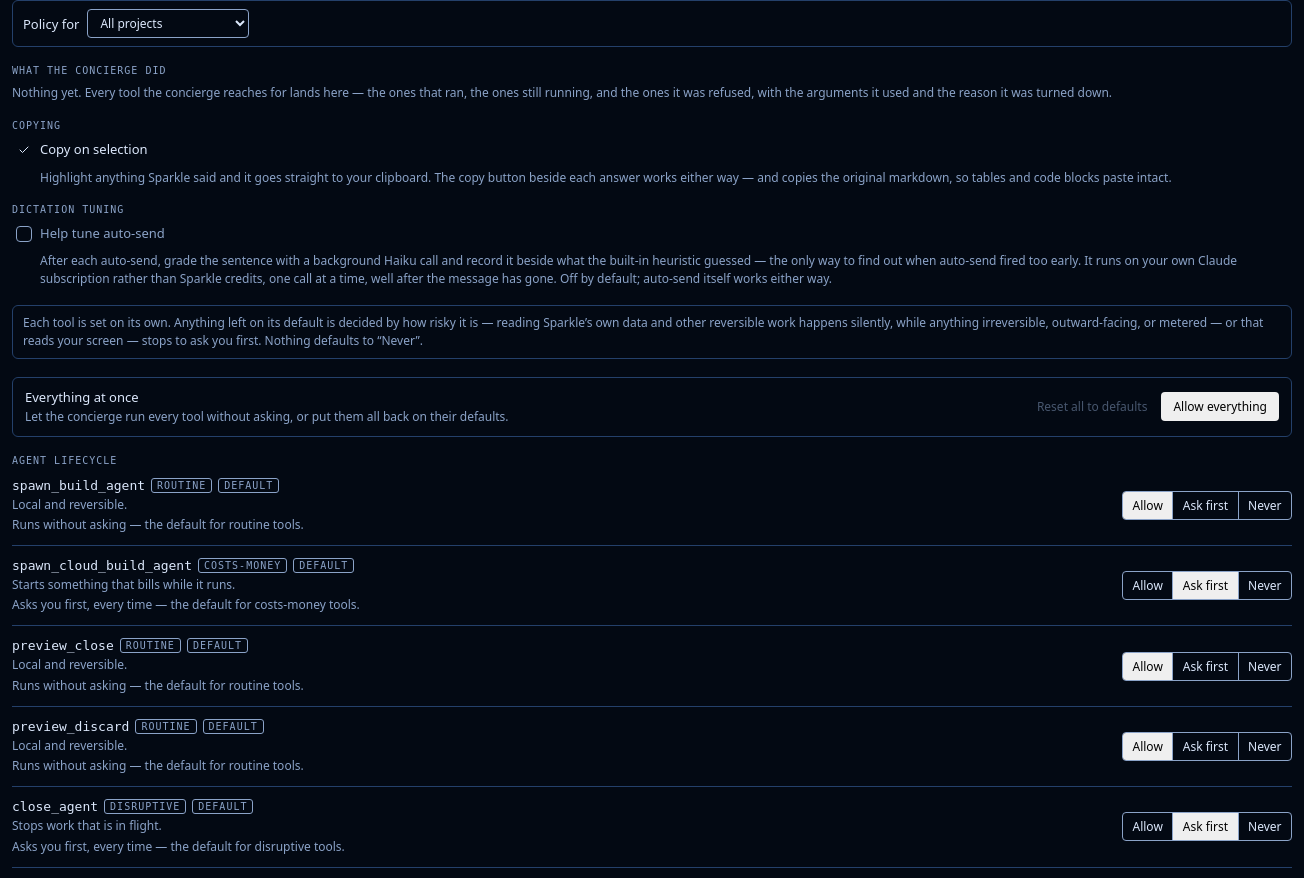
Test: a tier the lattice would ignore is never OFFERED › says the tightening rule out loud
The width and height of the screenshot is (1304, 878).
Select "Another repo…" in the dropdown with test id "concierge-policy-scope" at (168, 24), box 87,9 -> 249,38
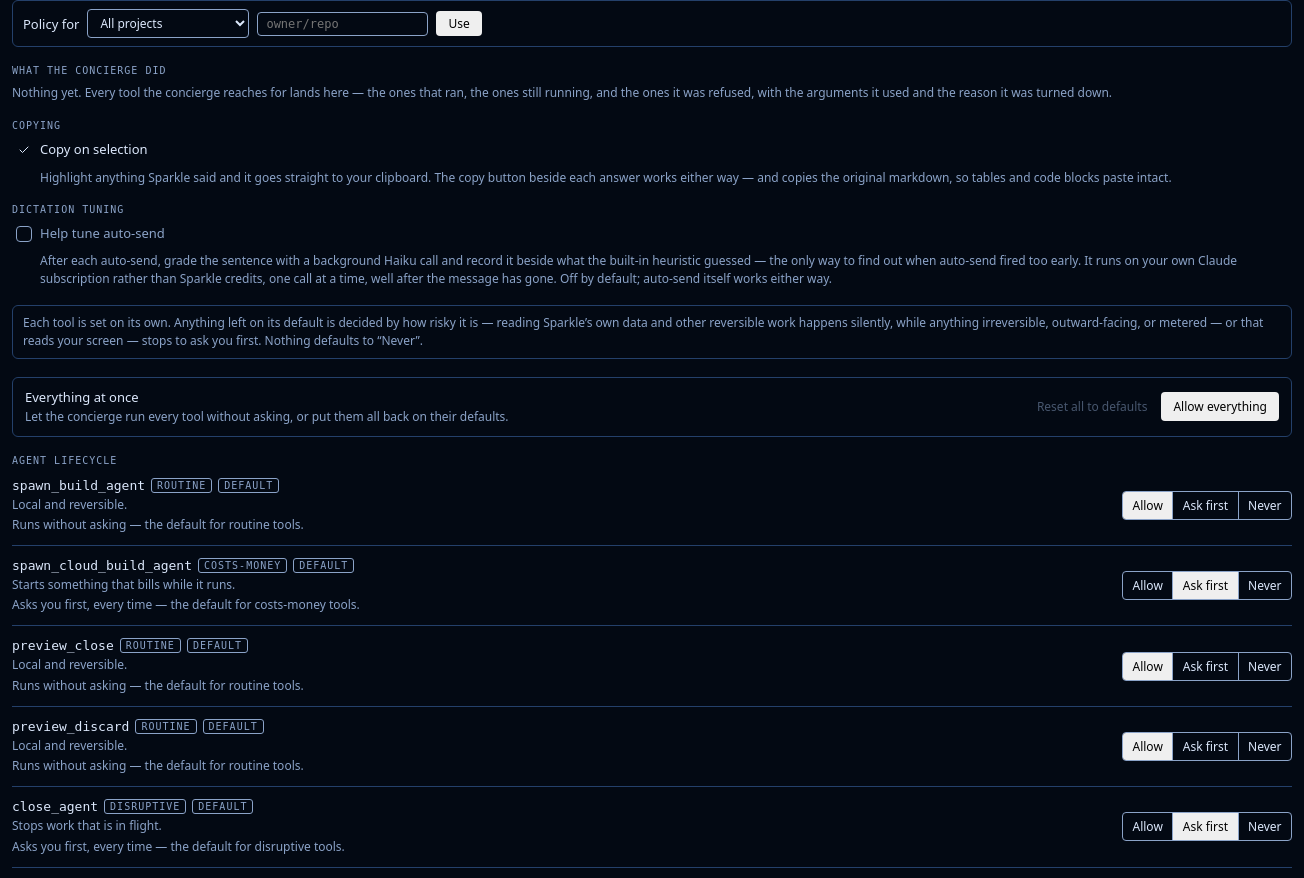
Type "drodio/sparkle" into the field with test id "concierge-policy-scope-input" at (343, 24), box 257,12 -> 428,36
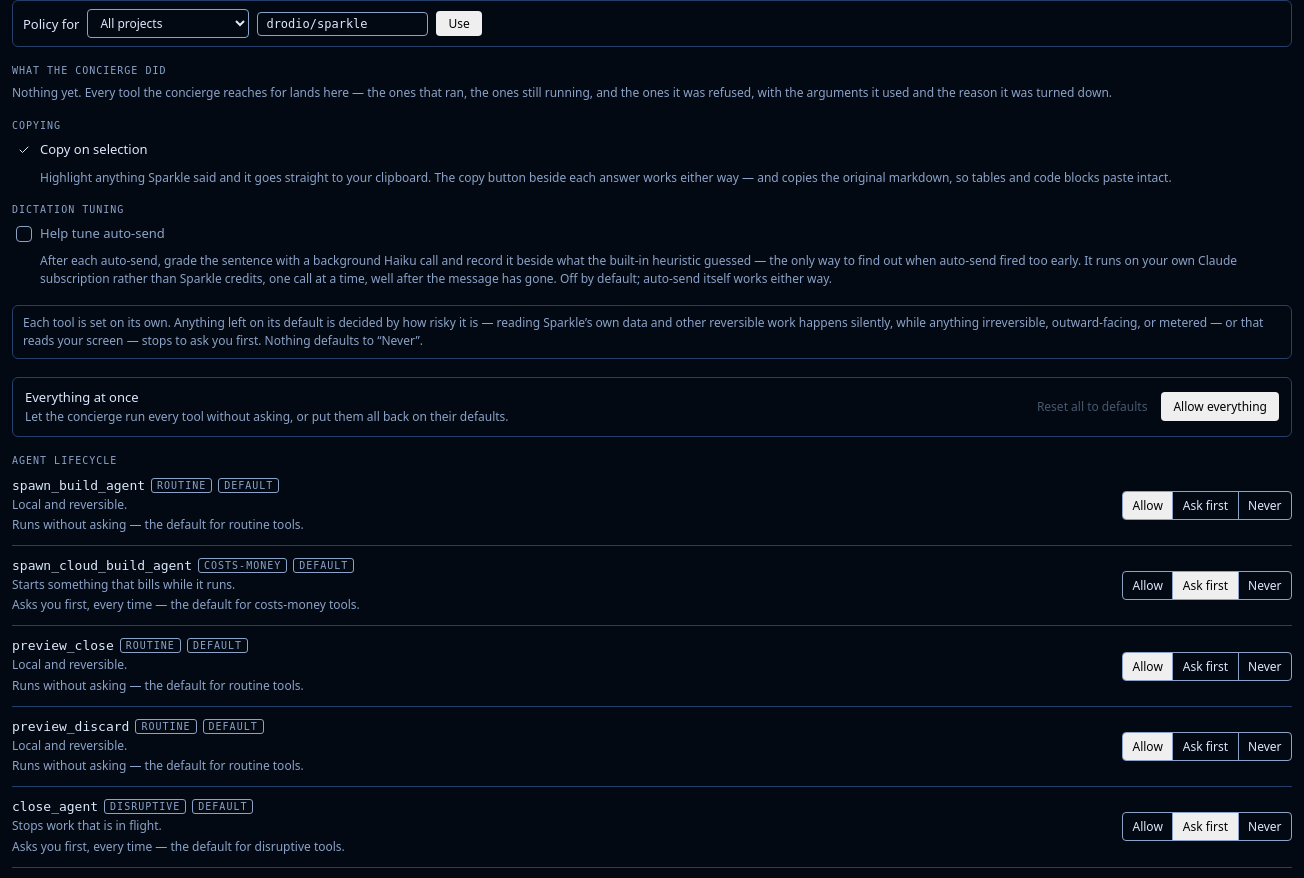
Click the button "Use" at (459, 24), box 436,11 -> 482,36
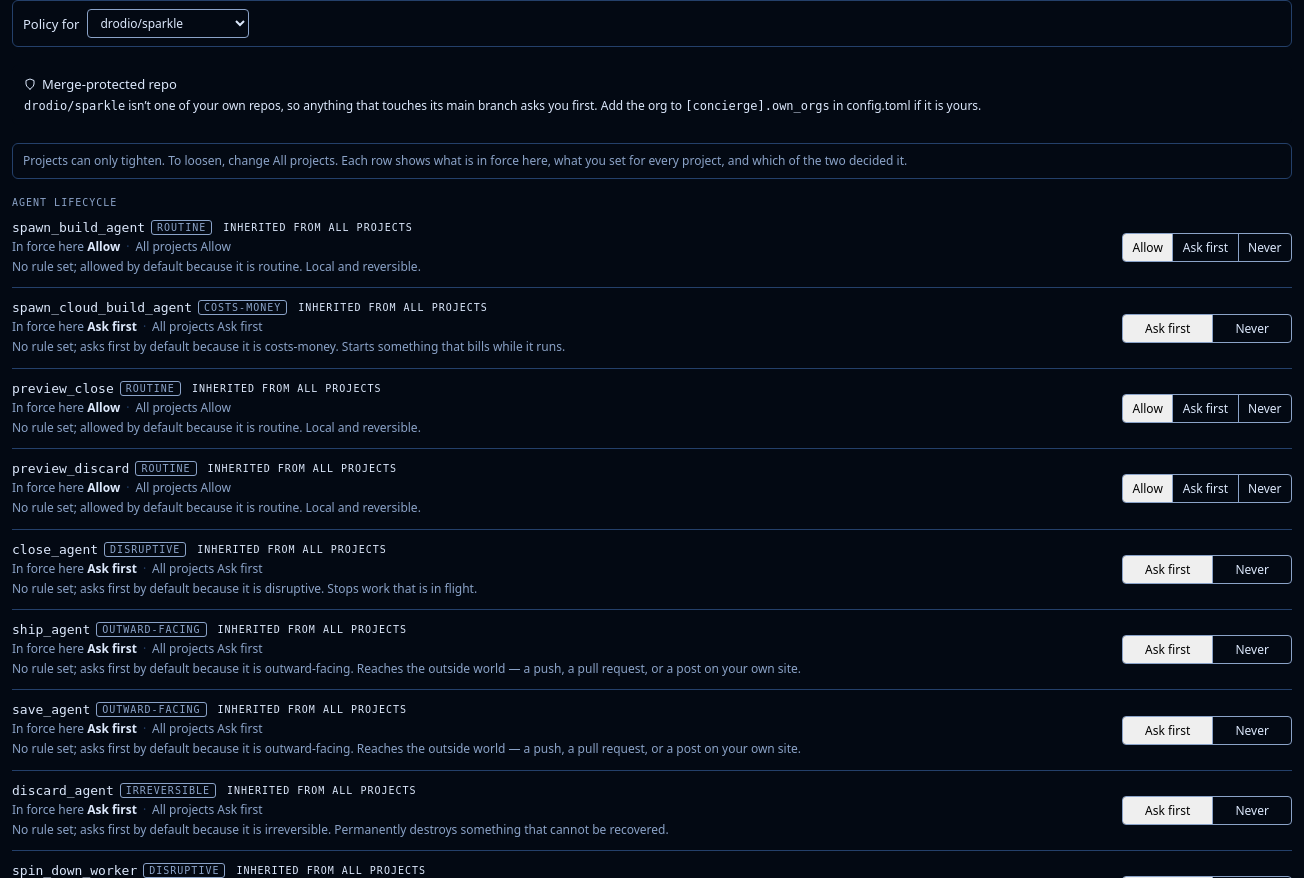
Expected: the text with test id "concierge-tighten-note" shows "Projects can only tighten. To loosen, change All projects.", 23,152 -> 338,169
